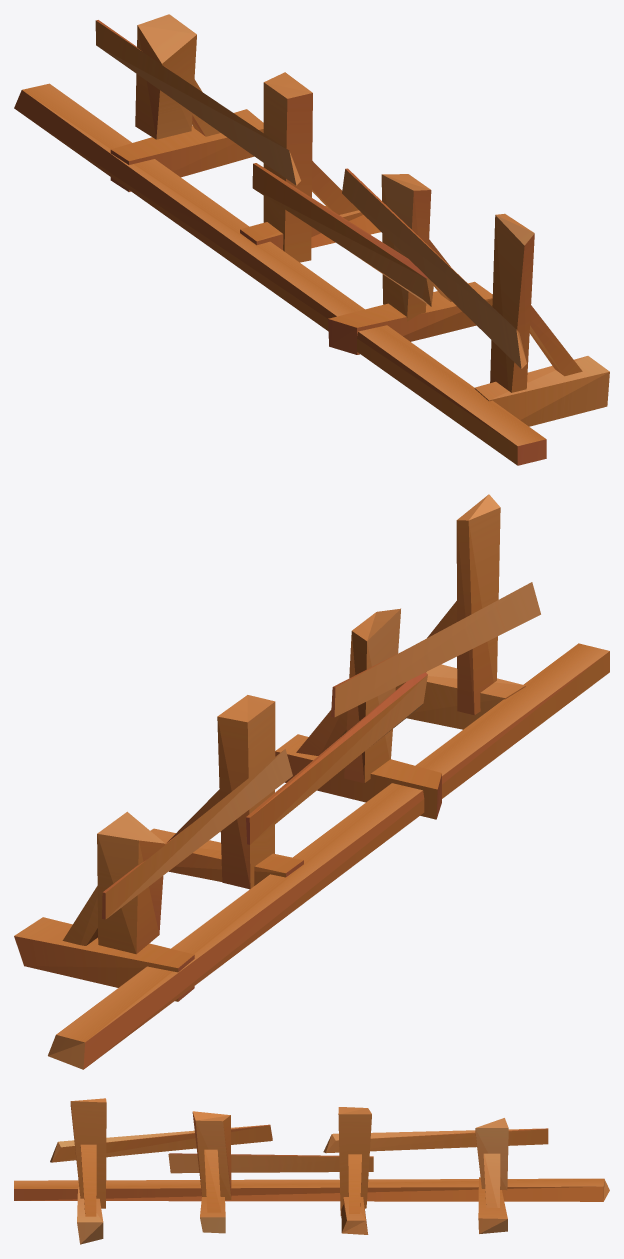
Rendered from GL-Manmade-07-LOD3.fbx.
3 views of the same model, one above another, from view 1: azimuth 30°, elevation 25°; view 2: azimuth 150°, elevation 25°; view 3: azimuth 270°, elevation 25° (orthographic). The views are drawn at different scales.
Visible parts, largest first — view 1: GL_Manmade_07; view 2: GL_Manmade_07; view 3: GL_Manmade_07.
Boxes of the visible parts, left/top/right/bottom form: GL_Manmade_07: left=14, top=14, right=609, bottom=465; GL_Manmade_07: left=14, top=494, right=609, bottom=1069; GL_Manmade_07: left=14, top=1098, right=609, bottom=1244.
Size of the model in its own units: 0.3431 by 0.3935 by 1.77.
